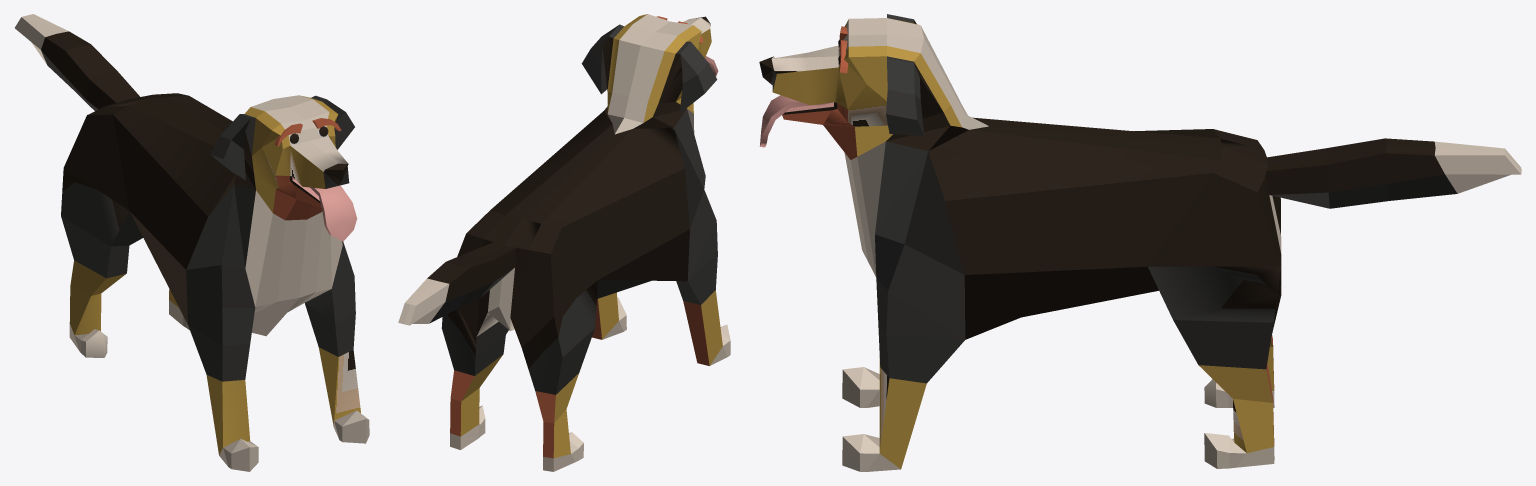
The picture shows the model from 3 angles, left to right: view 1: azimuth 30°, elevation 25°; view 2: azimuth 150°, elevation 25°; view 3: azimuth 270°, elevation 25°; orthographic projection. The views are drawn at different scales.
Parts seen in each view (by area): view 1: Dog1; view 2: Dog1; view 3: Dog1.
Part boxes in pixels (x1,y1,x2,y2): Dog1: [15, 14, 369, 471]; Dog1: [398, 14, 730, 471]; Dog1: [759, 14, 1521, 471].
Bounding box in the file's own units: 1.83 × 4.24 × 7.31.
Materials: 1 (1 with a texture image).
